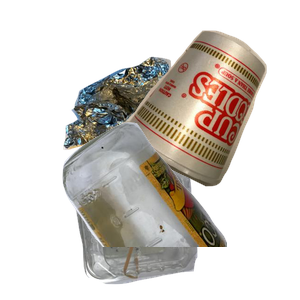glass: (60, 120, 300, 300)
metal: (61, 54, 225, 202)
plastic: (71, 154, 300, 300)
trash: (119, 28, 300, 207)
